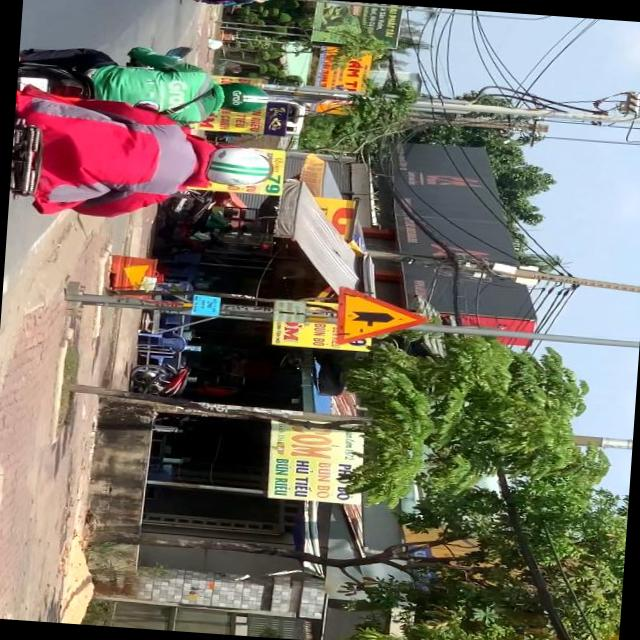W-207b: (332, 285, 433, 350)
